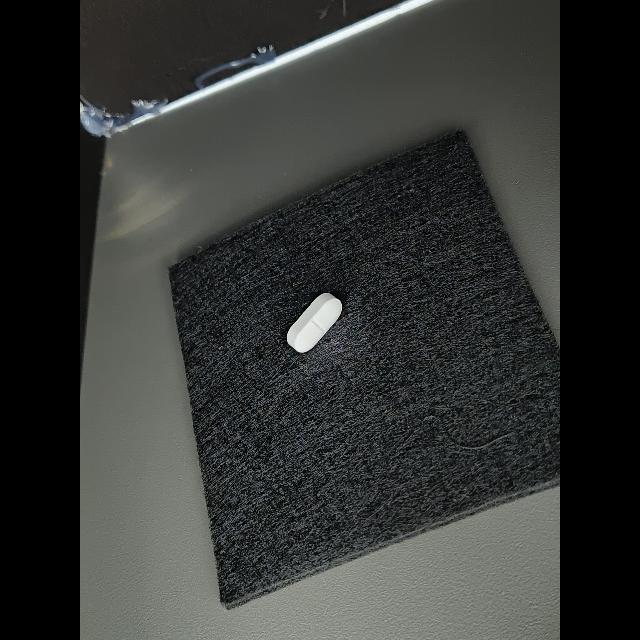Intact Pill: (287, 293, 342, 352)
